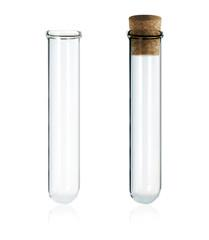Test tube: (119, 8, 164, 201), (46, 17, 83, 205)
